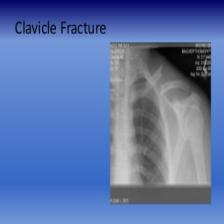fracture-dislocation: (110, 40, 211, 206)
